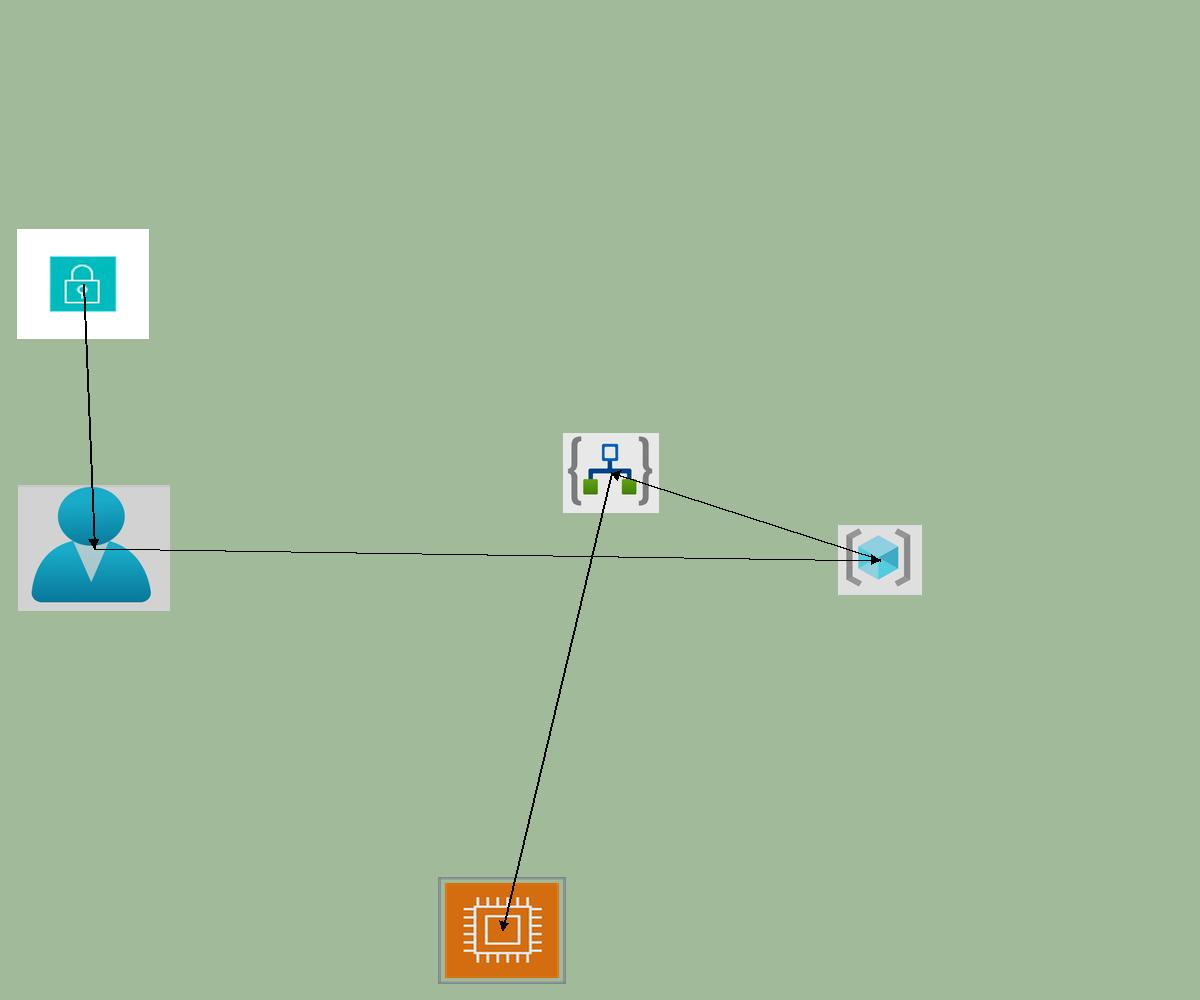AWS-Category_Compute: (438, 877, 566, 984)
AWS-Private-subnet: (17, 229, 149, 339)
Azure_integration-204-Logic-Apps: (563, 433, 659, 513)
Azure_resource_group: (838, 525, 922, 595)
Azure_users: (18, 485, 170, 611)
